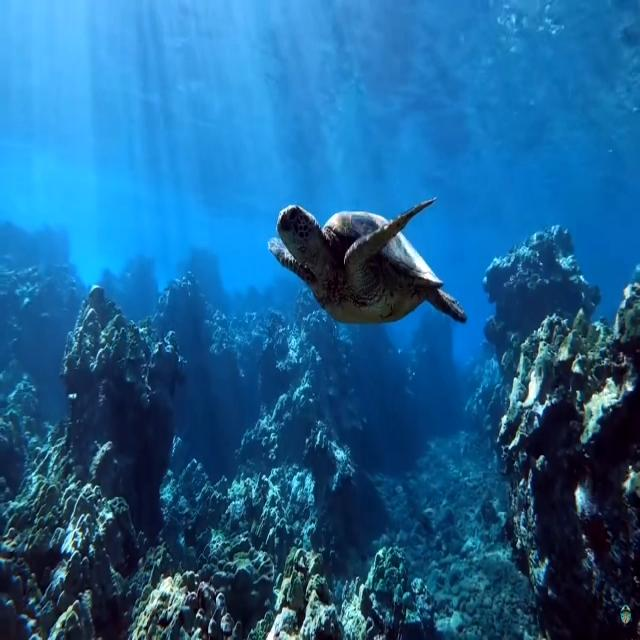Sea turtle: (268, 198, 468, 326)
